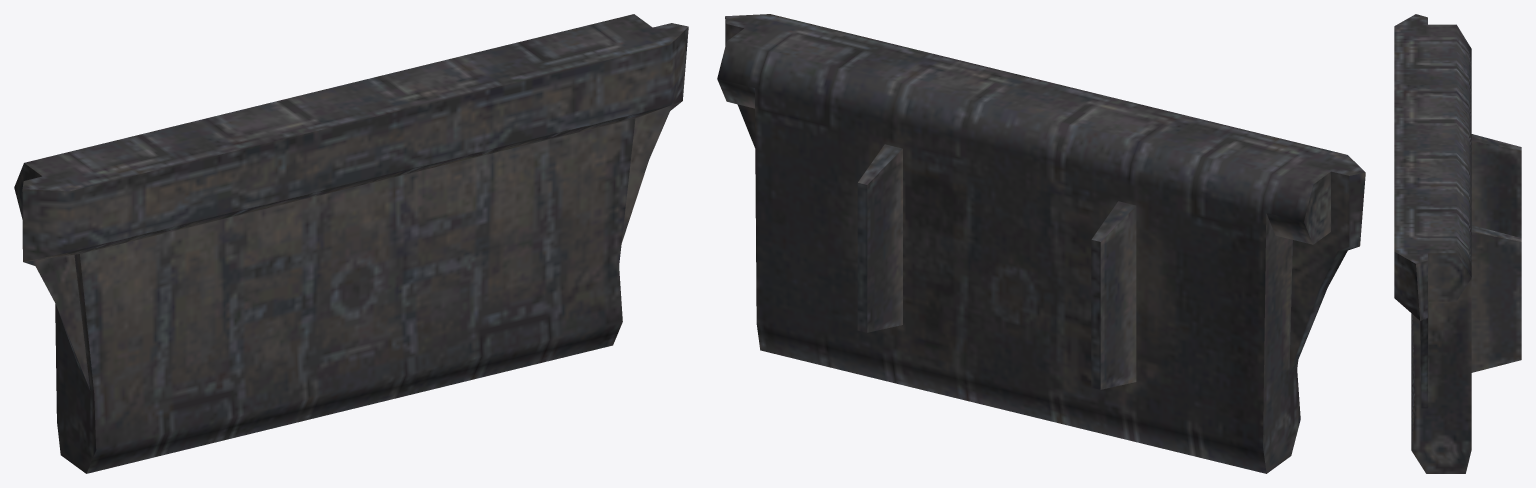
3 views of the same model, side by side, from view 1: azimuth 30°, elevation 25°; view 2: azimuth 150°, elevation 25°; view 3: azimuth 270°, elevation 25° (orthographic). The views are drawn at different scales.
Visible parts, largest first — view 1: set_0_group_0; view 2: set_0_group_0; view 3: set_0_group_0.
Part boxes in pixels (box(x1,y1,x2,y2)): set_0_group_0: box(14, 14, 688, 473); set_0_group_0: box(717, 14, 1365, 473); set_0_group_0: box(1394, 14, 1521, 473).
Bounding box in the file's own units: 0.602 × 0.2651 × 0.1297.
1 material, 1 textured.
